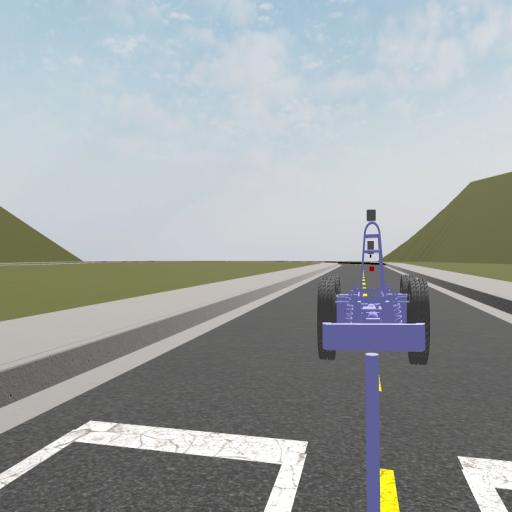ERP-42: (318, 208, 430, 363)
